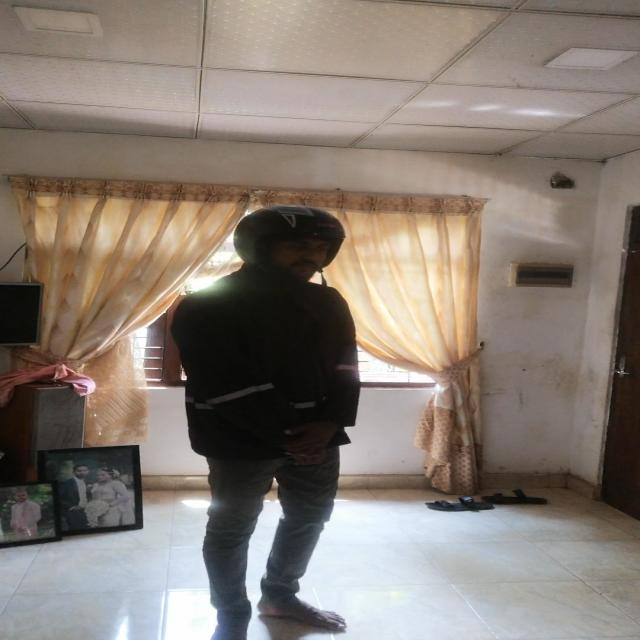Helmet_Wearer: (216, 199, 347, 295)
Jacket_Wearer: (160, 265, 372, 477)
Person: (163, 203, 412, 634)
